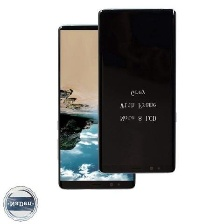phone: (54, 22, 140, 192), (96, 7, 179, 177)
